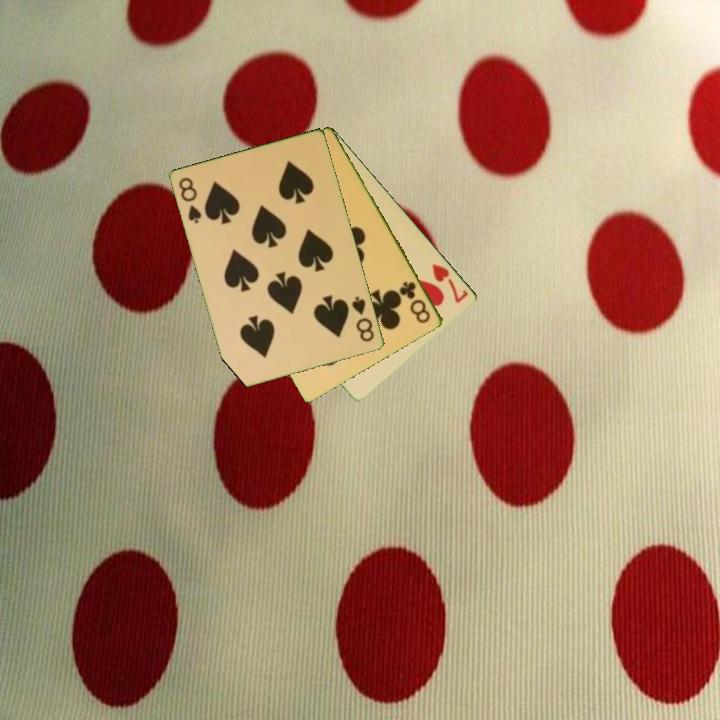7h: (428, 260, 472, 306)
8c: (396, 278, 434, 326)
8s: (175, 174, 205, 226), (348, 293, 377, 345)
